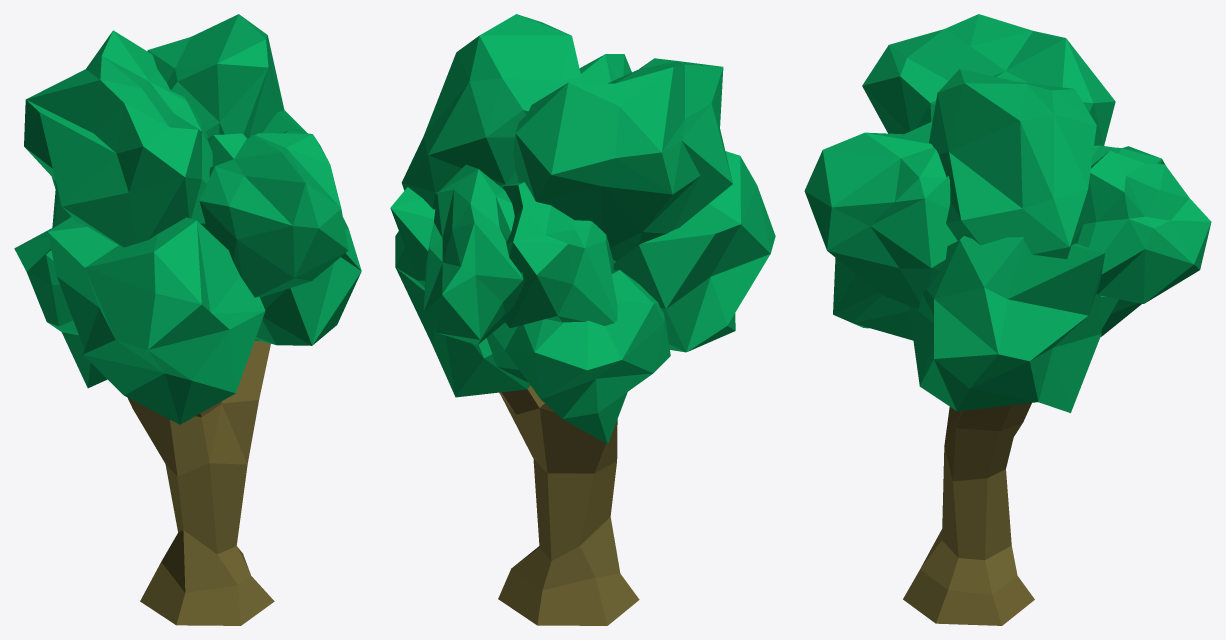
File: tree_maple1.fbx
The picture shows the model from 3 angles, left to right: view 1: azimuth 30°, elevation 25°; view 2: azimuth 150°, elevation 25°; view 3: azimuth 270°, elevation 25°; orthographic projection. The views are drawn at different scales.
Parts seen in each view (by area): view 1: Cylinder.002; view 2: Cylinder.002; view 3: Cylinder.002.
Boxes of the visible parts, x1=… form: Cylinder.002: x1=14, y1=14, x2=361, y2=625; Cylinder.002: x1=390, y1=14, x2=775, y2=625; Cylinder.002: x1=804, y1=14, x2=1211, y2=625.
Size of the model in its own units: 590 by 1016 by 688.
